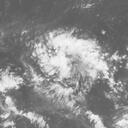cyclone: (30, 28, 109, 94)
